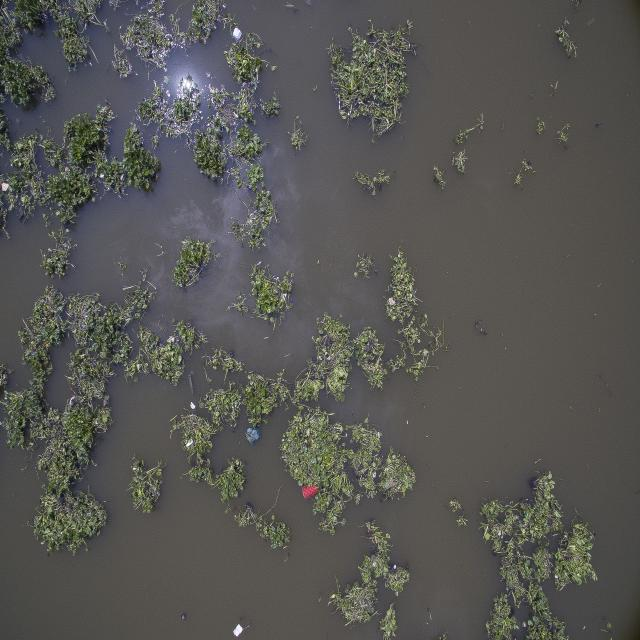plastic: (226, 21, 252, 54), (298, 479, 328, 505), (243, 418, 264, 452), (2, 167, 12, 206), (186, 397, 202, 419), (232, 618, 248, 640)
